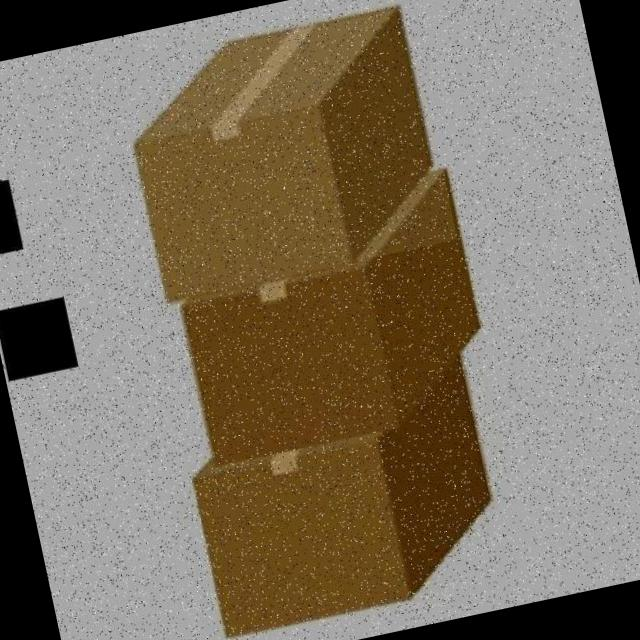box: (104, 0, 457, 303)
